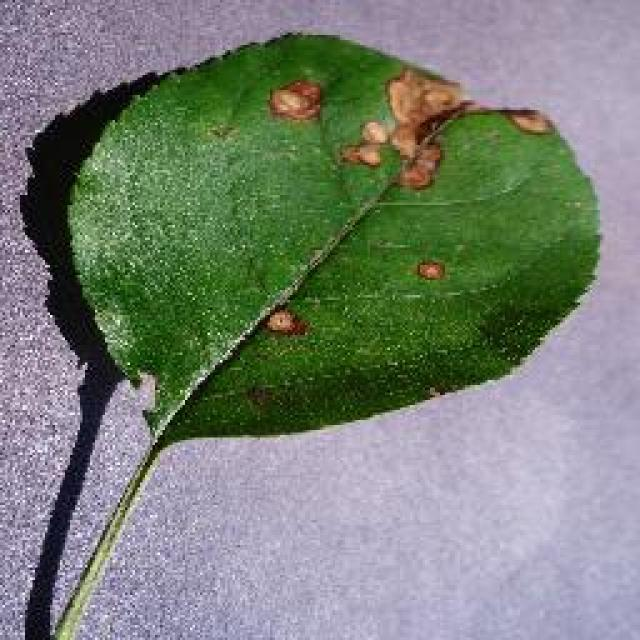Black_rot: (18, 28, 602, 638)
